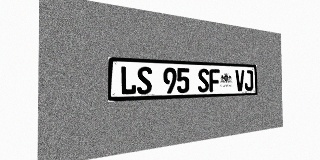5: (177, 68, 189, 93)
9: (163, 67, 177, 94)
F: (209, 69, 220, 92)
J: (244, 70, 253, 91)
L: (120, 66, 136, 95)
S: (137, 66, 152, 94), (198, 68, 209, 92)
V: (235, 70, 244, 91)
